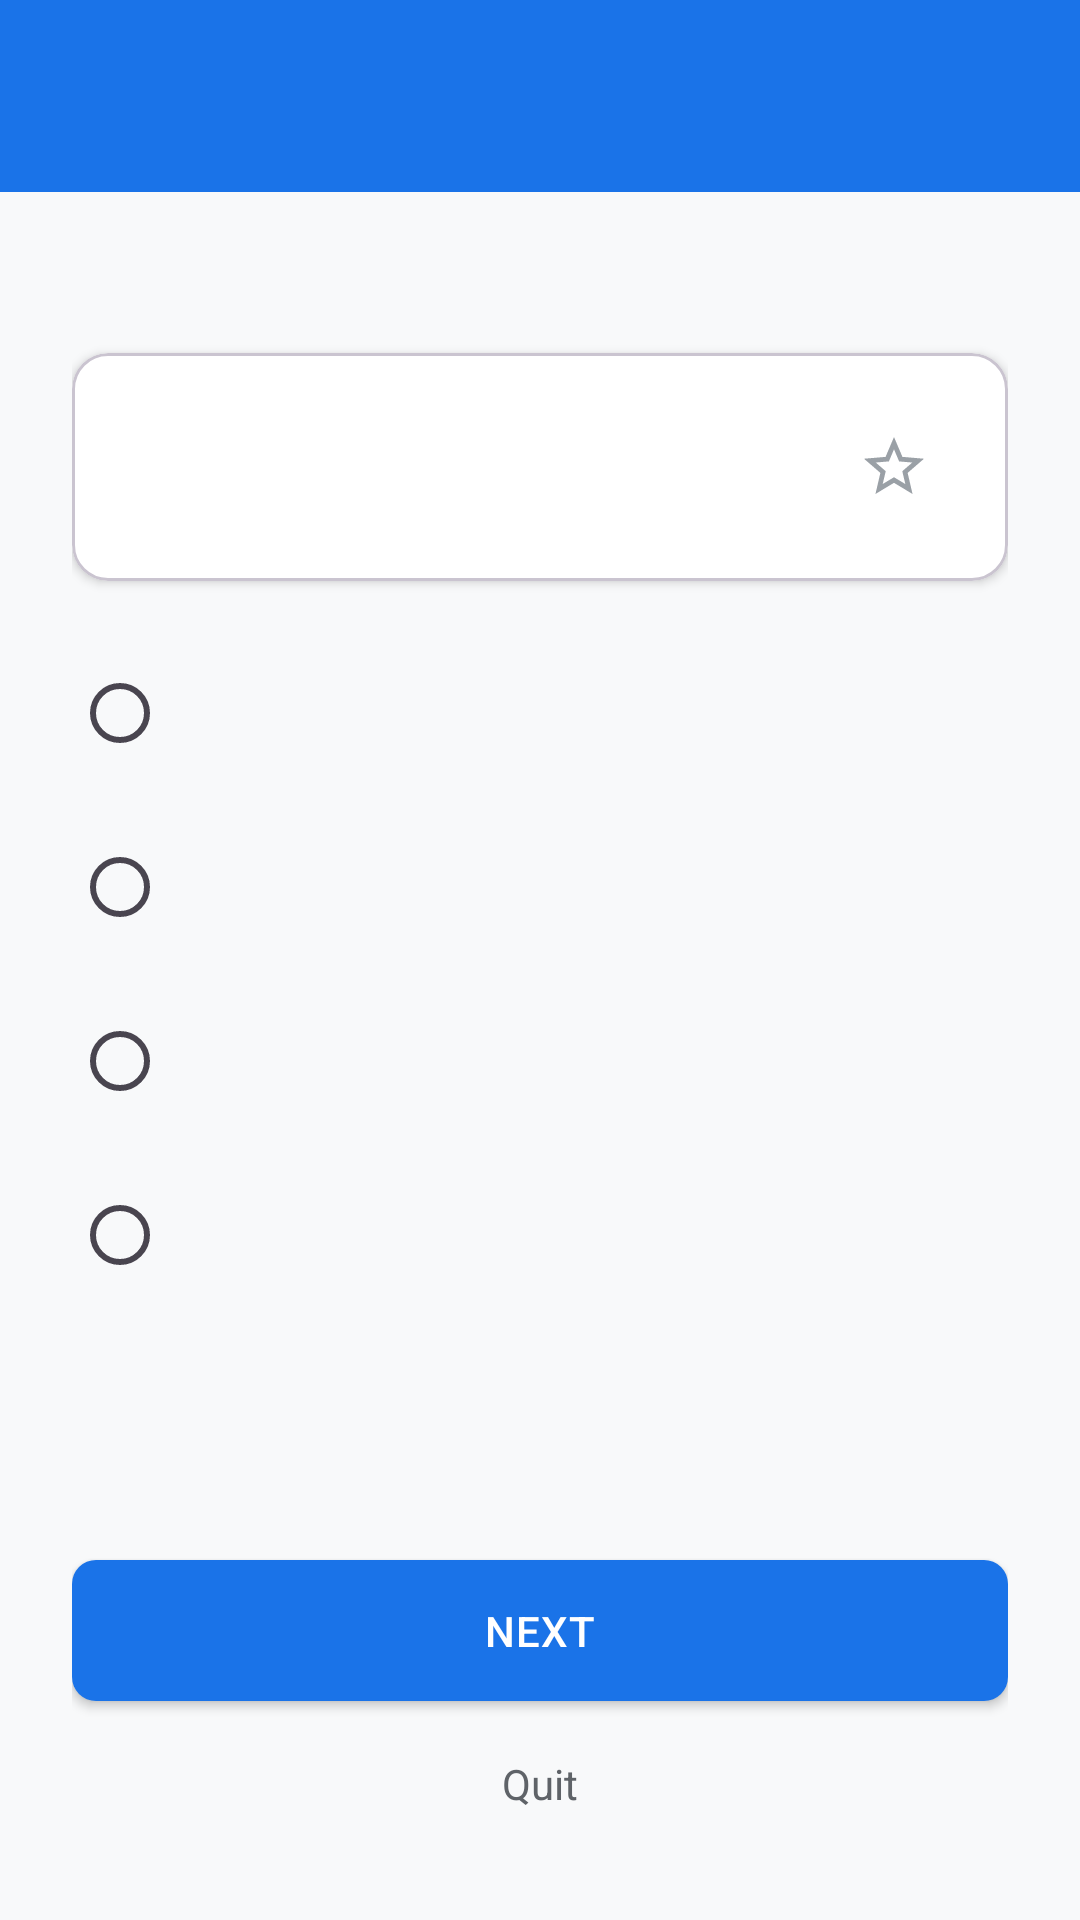

Icons on this 1080*1920 Android screen, each with the point to tap as point (x, y):
Save question for later: point (894, 466)
